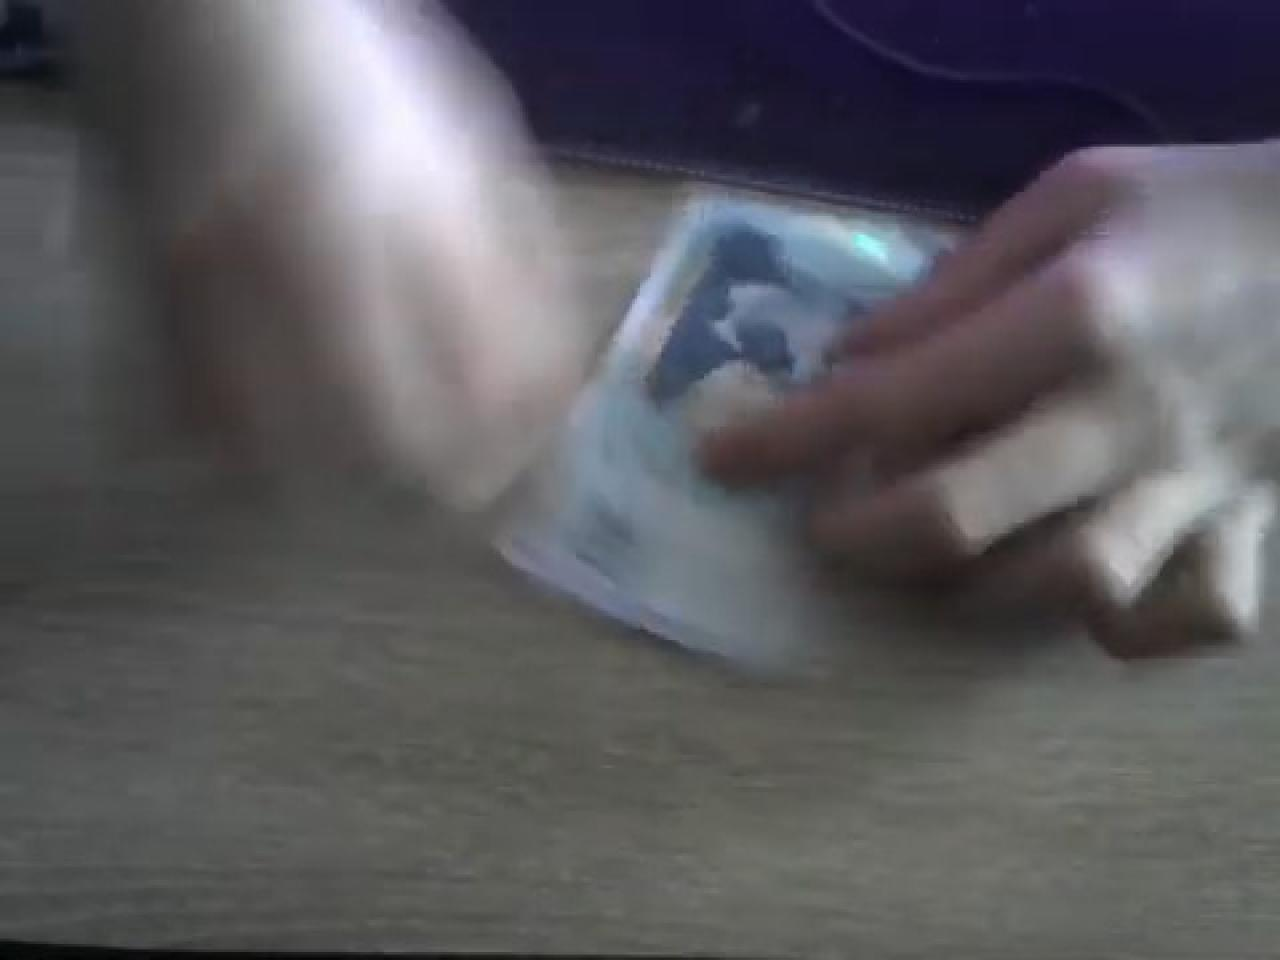20leva: (493, 190, 966, 678)
